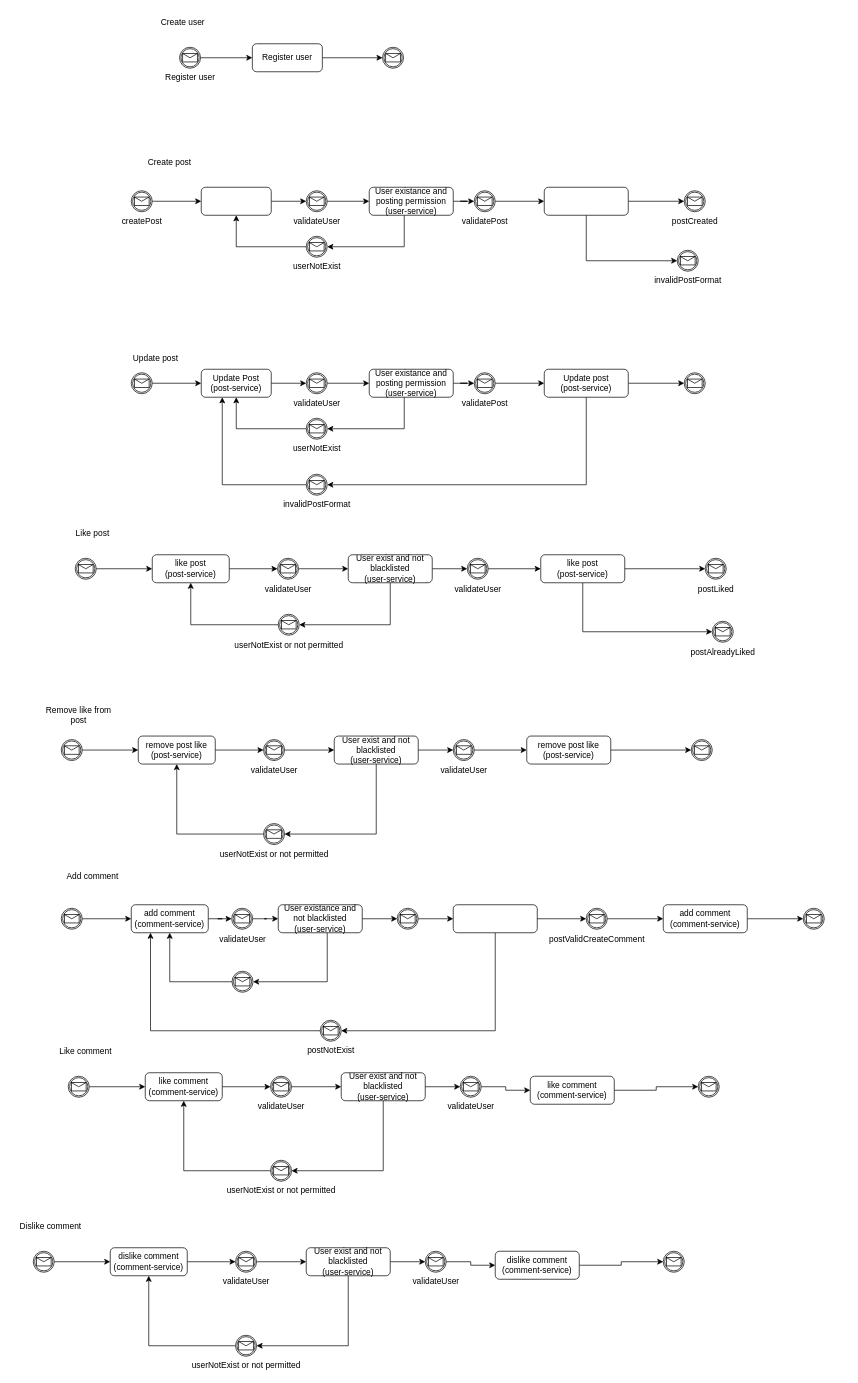
Some shapes in this 858 by 1383 pixel diagram are drawn without their labels. Here are the shapes that lost their labels. From the top down, the box of each, then its label:
(382, 47, 404, 68): userRegistered
(201, 187, 271, 215): Create Post (post-service)
(544, 187, 628, 215): Create Post and content validation (post-service)
(131, 372, 152, 394): updatePost
(684, 372, 705, 394): postUpdated
(75, 558, 96, 579): likePost
(61, 739, 82, 761): removePostLike
(691, 739, 712, 761): postLikeRemoved
(61, 908, 82, 929): addComment
(397, 908, 418, 929): validatePostExistance
(453, 904, 537, 933): Validate post (post-service)
(803, 908, 824, 929): commentCreated
(231, 971, 253, 992): userNotExist or blacklisted
(68, 1076, 89, 1097): likeComment
(698, 1076, 719, 1097): commentLiked
(33, 1251, 54, 1272): dislikeComment
(663, 1251, 684, 1272): commentDisliked
